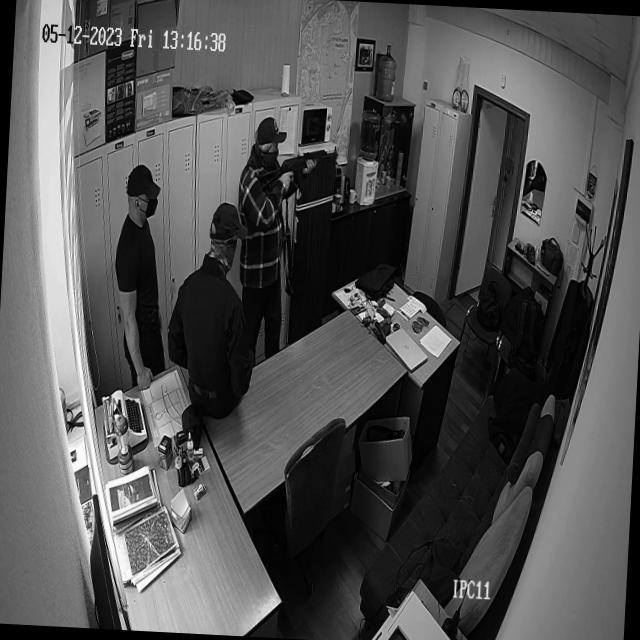gun: (258, 142, 339, 204), (514, 238, 525, 256)
person: (162, 199, 262, 418), (105, 162, 177, 392)
person with a gun: (230, 116, 340, 355)
